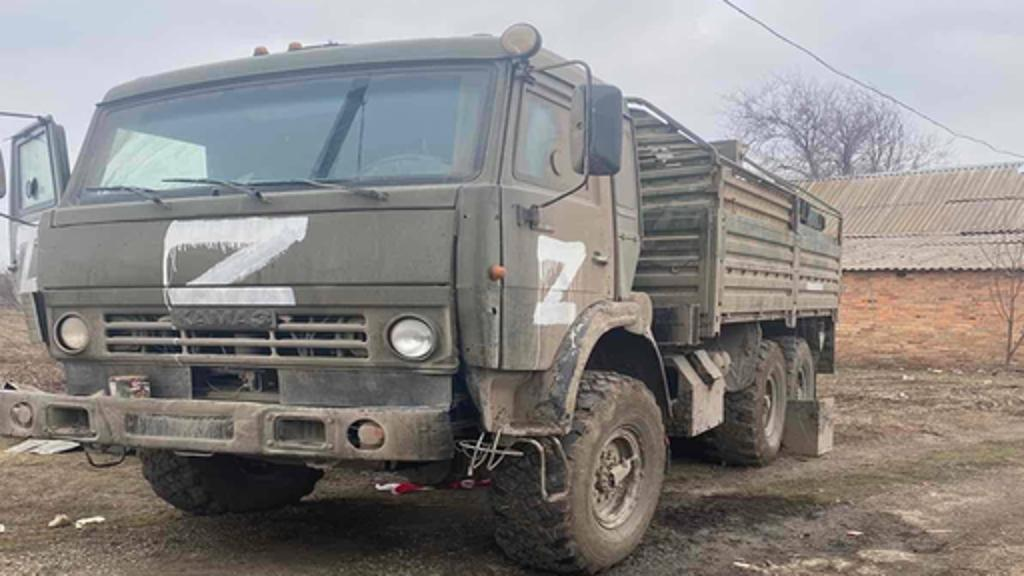TRUCK: (34, 20, 842, 572)
